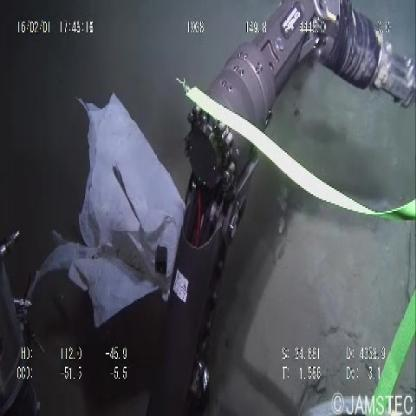Rov: (150, 1, 414, 410)
Rác: (66, 95, 190, 336)
